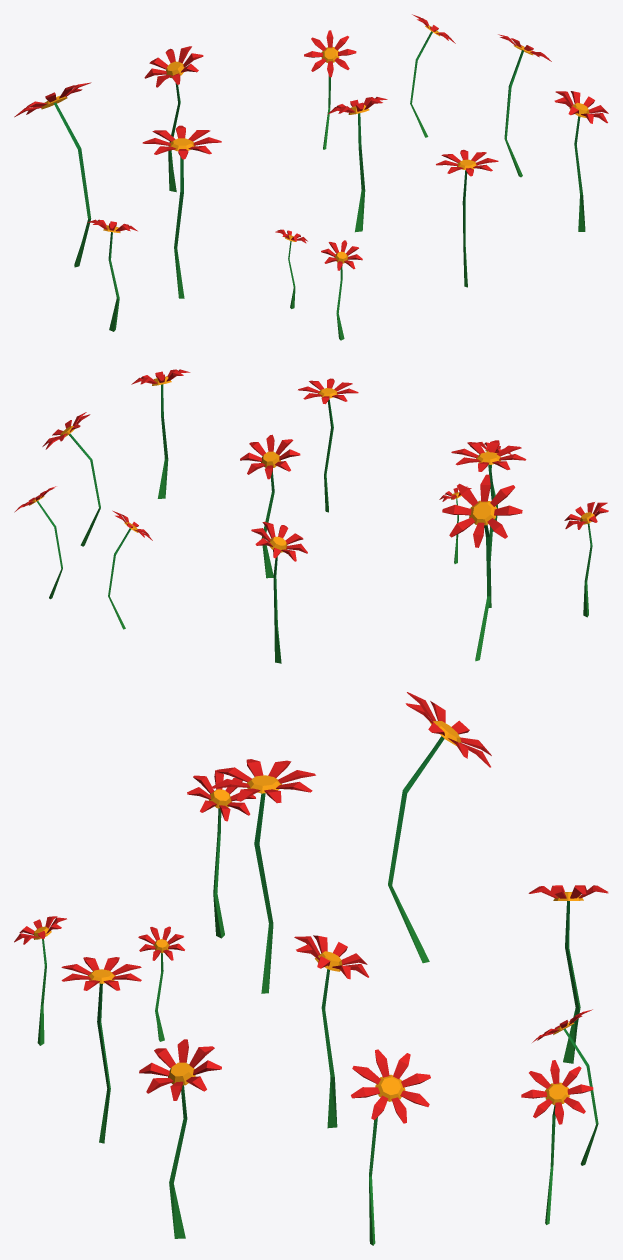
The model's file is flower_red.glb.
The picture shows the model from 3 angles, top to bottom: view 1: azimuth 30°, elevation 25°; view 2: azimuth 150°, elevation 25°; view 3: azimuth 270°, elevation 25°; orthographic projection. The views are drawn at different scales.
Parts seen in each view (by area): view 1: Flower 4_4_C; view 2: Flower 4_4_C; view 3: Flower 4_4_C.
Boxes of the visible parts, x1,y1,x2,y2 form: Flower 4_4_C: (14, 14, 608, 340); Flower 4_4_C: (14, 369, 608, 663); Flower 4_4_C: (14, 692, 608, 1245).
Bounding box in the file's own units: 0.608 × 0.2108 × 0.4459.
1 material, 1 textured.
